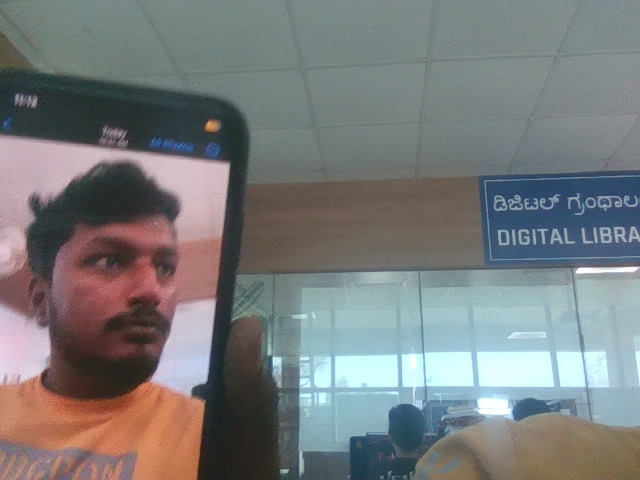fake: (30, 141, 207, 392)
